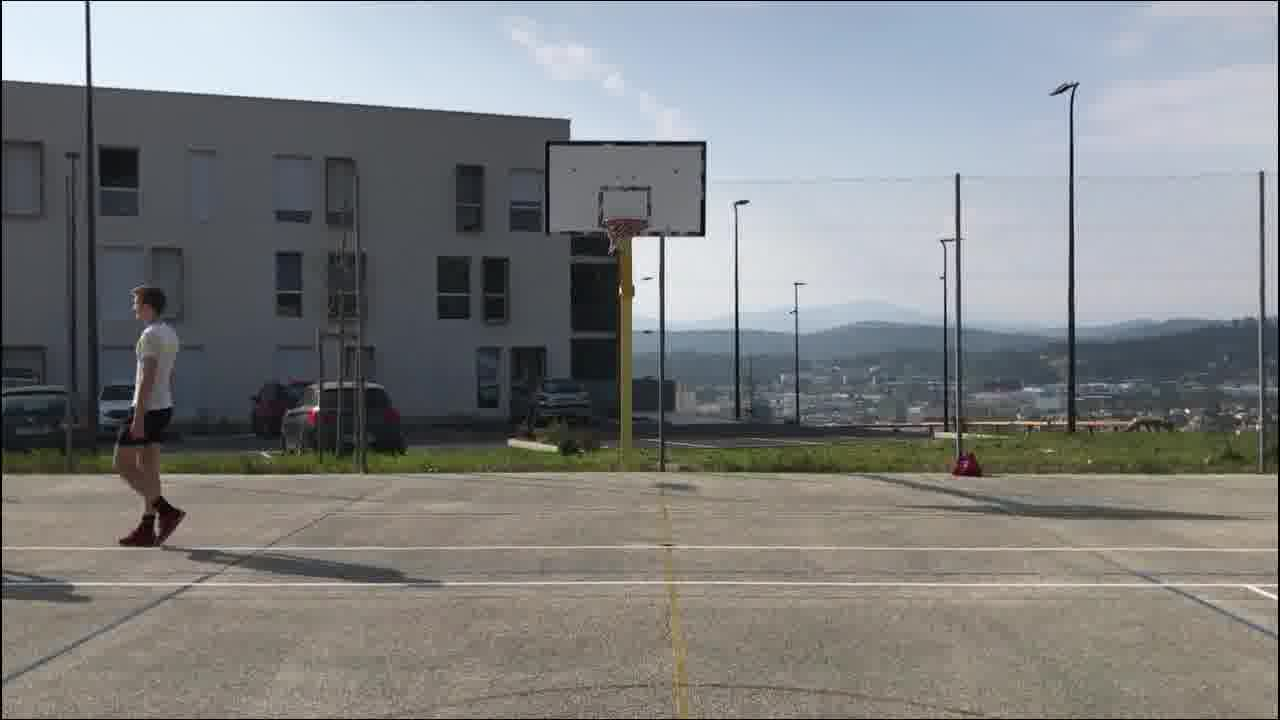jugador: (98, 272, 195, 560)
